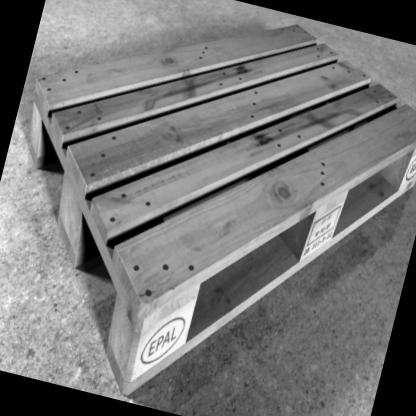BoxFace: (26, 22, 416, 401)
